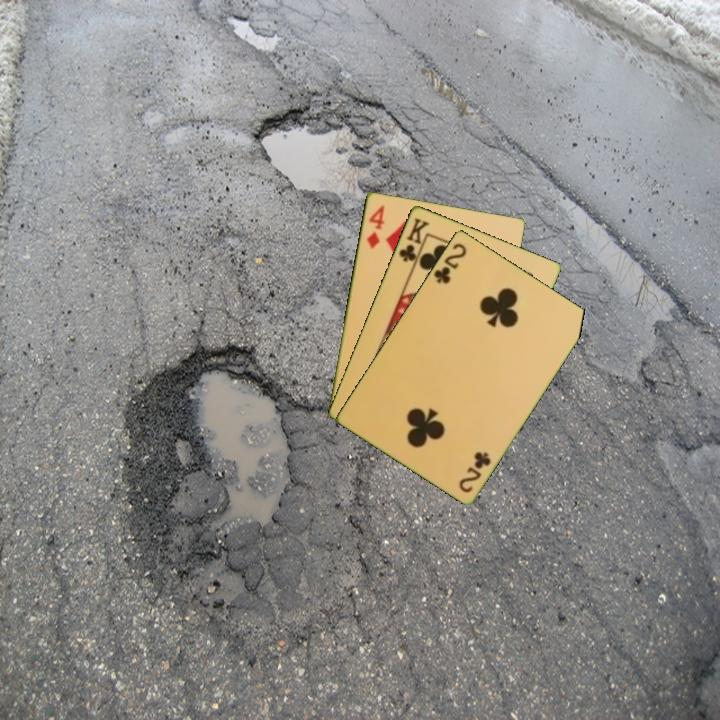2c: (430, 239, 470, 286), (455, 448, 494, 495)
4d: (363, 201, 387, 251)
Kc: (395, 213, 432, 270)
